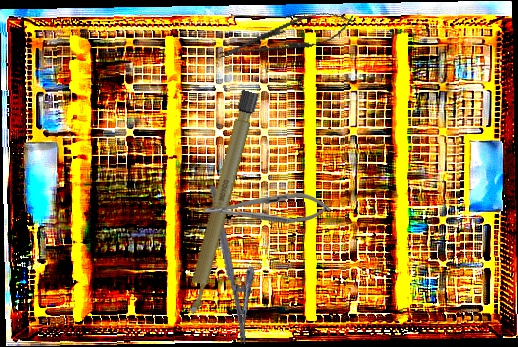Needle Holder: (208, 181, 269, 345), (214, 3, 358, 71), (201, 191, 332, 226)
Scalpel Handle: (181, 89, 260, 316)
